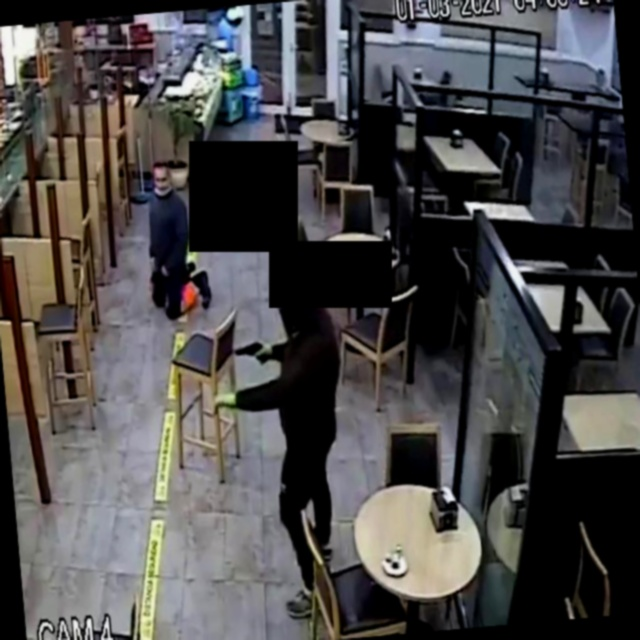gun: (221, 323, 280, 380)
